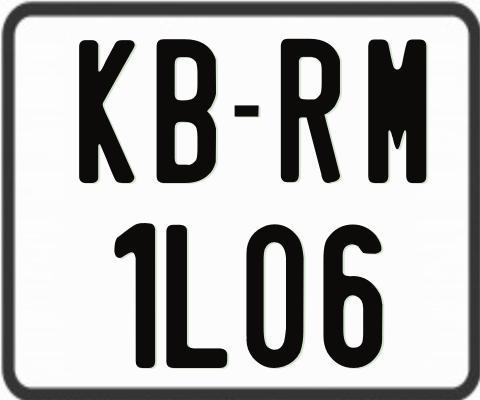0: (243, 223, 306, 373)
1: (114, 220, 161, 366)
6: (322, 223, 384, 369)
B: (156, 37, 218, 182)
K: (77, 40, 138, 187)
L: (163, 224, 225, 371)
M: (368, 37, 432, 185)
R: (281, 37, 341, 183)
